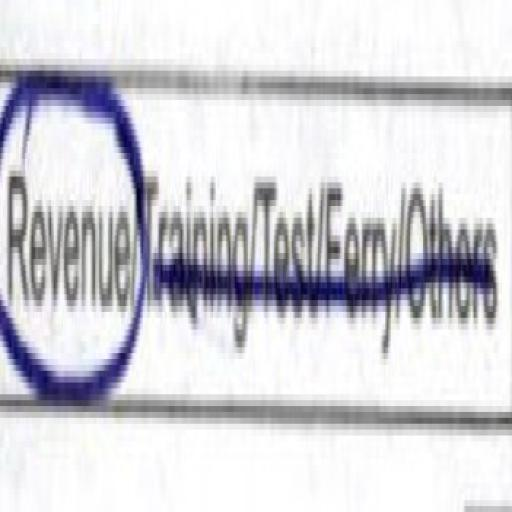check: (0, 4, 148, 485)
